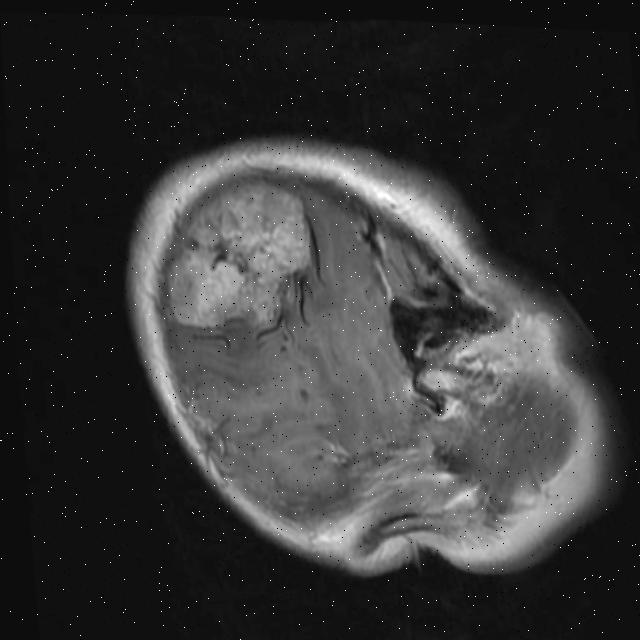Meningioma: (156, 173, 319, 336)
